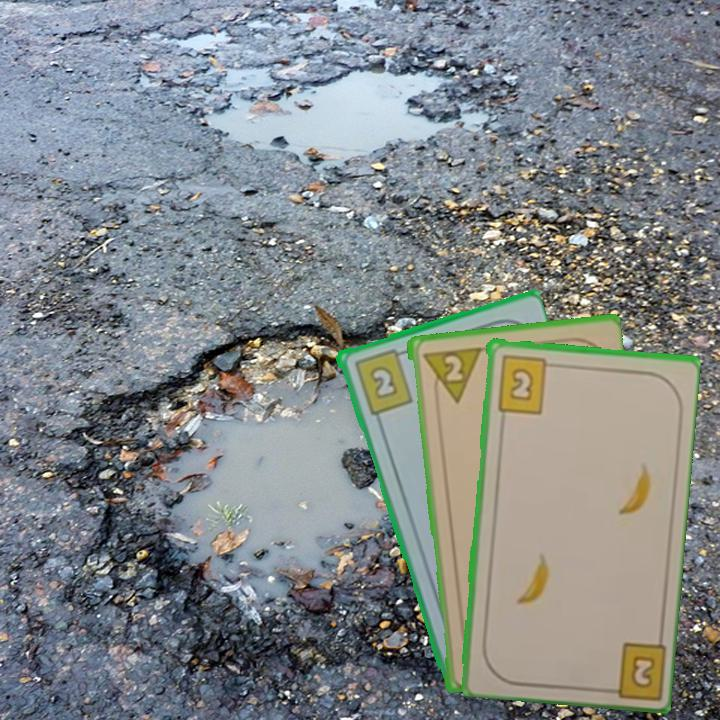2b: (350, 345, 415, 417), (493, 351, 558, 416), (597, 638, 666, 699)
2p: (418, 343, 482, 407)
